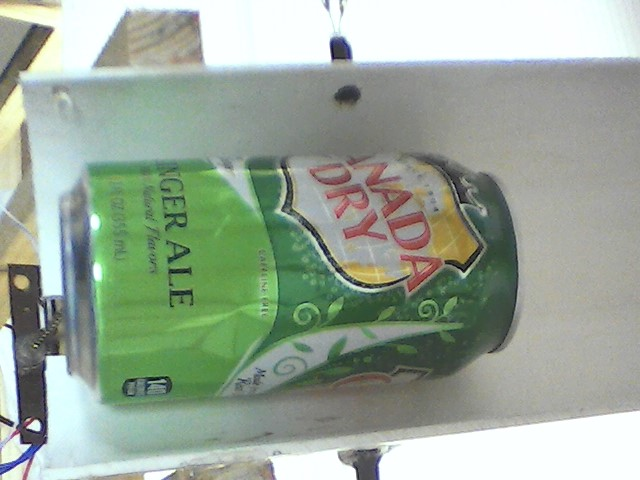lata: (56, 151, 532, 411)
